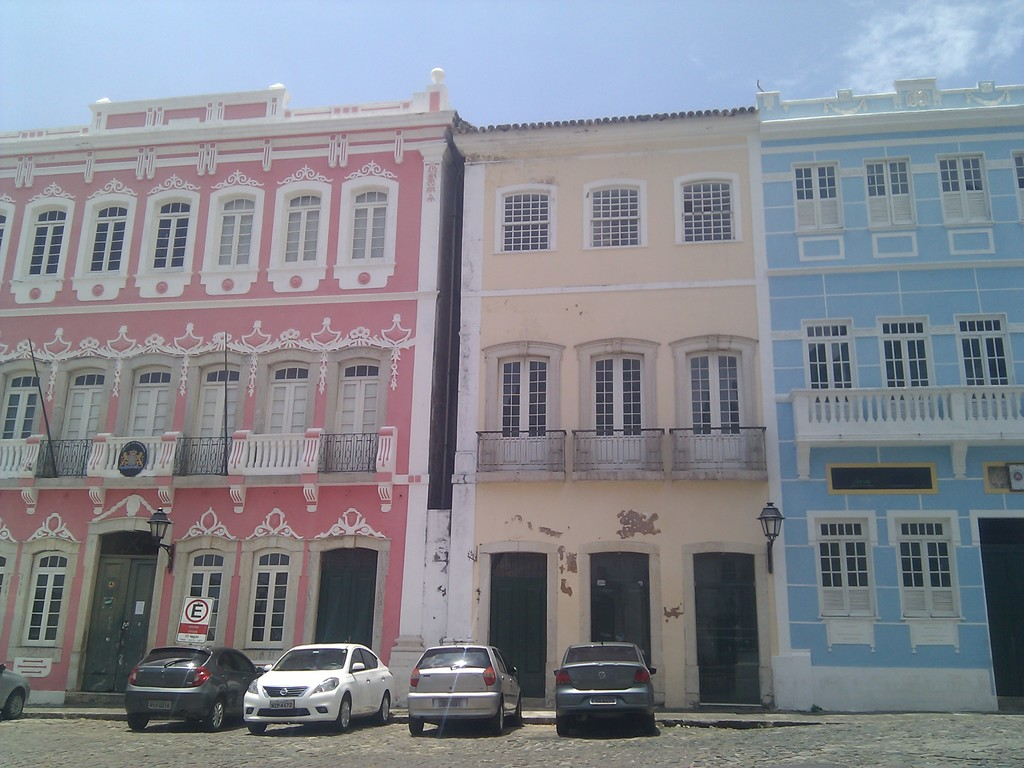mobil: (246, 643, 394, 730), (124, 642, 251, 740), (554, 637, 664, 739), (410, 643, 519, 734)
